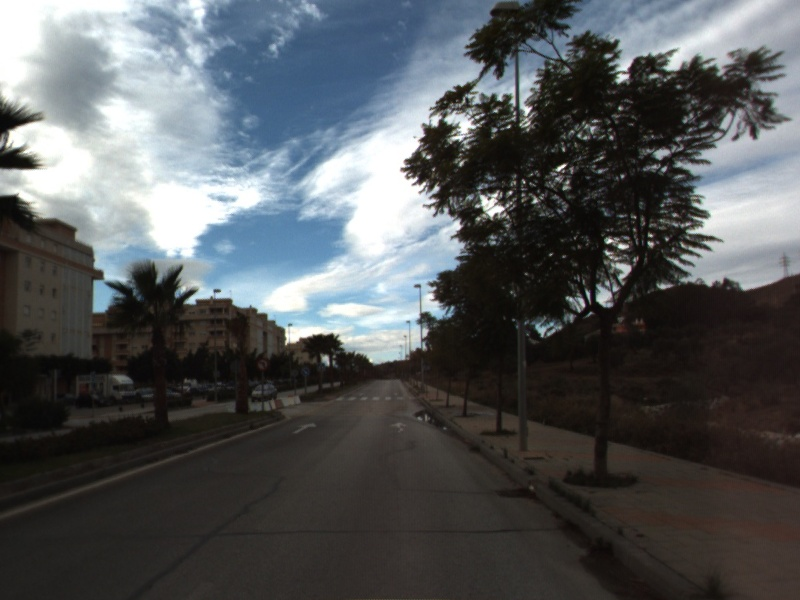STRAIGHT: (291, 420, 319, 435), (388, 420, 409, 435)
